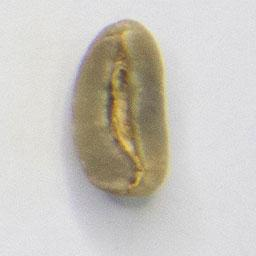longberry: (70, 17, 174, 199)
